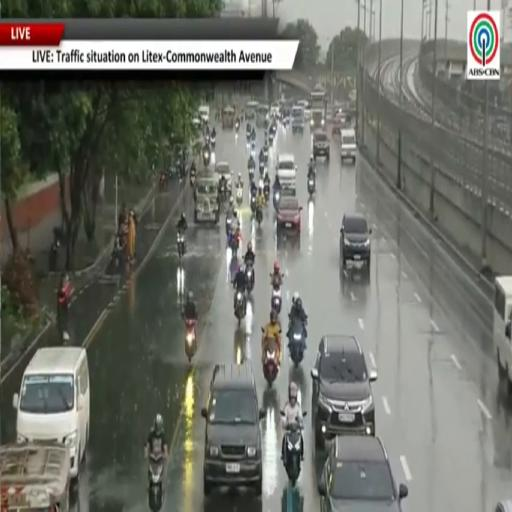bus: (493, 276, 511, 391)
car: (13, 347, 90, 478), (202, 364, 264, 495), (312, 335, 377, 449), (318, 436, 408, 511), (340, 214, 371, 270), (277, 196, 302, 233), (340, 128, 356, 164), (313, 131, 329, 161), (215, 162, 232, 189), (494, 501, 511, 511)
jeepney: (0, 443, 70, 511), (194, 174, 219, 223), (215, 162, 232, 190), (222, 106, 235, 129), (256, 104, 269, 127), (245, 101, 258, 120)
motorcycle: (283, 423, 302, 487), (149, 453, 164, 511), (289, 318, 305, 365), (263, 340, 279, 387), (185, 319, 196, 362), (112, 235, 124, 268), (235, 291, 245, 326), (49, 238, 59, 271), (271, 283, 281, 313), (245, 264, 254, 293), (230, 250, 238, 282), (177, 231, 185, 259), (219, 183, 227, 203), (226, 215, 234, 235), (203, 148, 211, 167), (256, 206, 263, 227), (273, 190, 280, 210), (159, 172, 167, 188), (250, 194, 256, 215), (264, 183, 270, 203), (308, 178, 315, 195), (236, 187, 242, 205), (190, 171, 196, 187), (259, 159, 264, 178), (249, 167, 254, 182), (210, 136, 215, 151), (264, 148, 268, 164), (269, 132, 274, 144), (205, 134, 210, 146), (251, 130, 255, 145), (235, 121, 239, 133), (251, 139, 255, 151), (247, 131, 251, 143)
truck: (276, 154, 296, 196), (309, 86, 326, 131), (292, 104, 304, 133)
